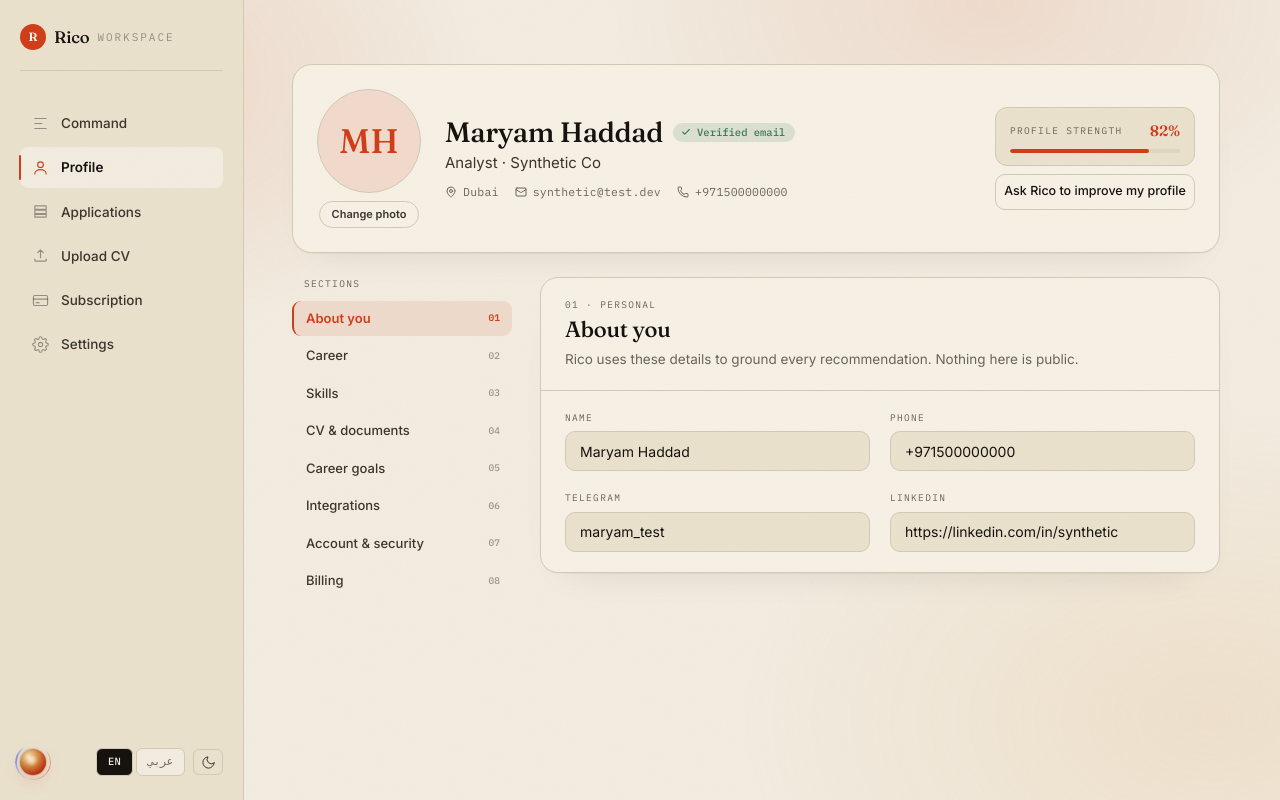
Test case: profile editorial — dirty draft save flow › edits accumulate into one PATCH containing only the changed fields
Expected: the heading "Maryam Haddad" is shown, [445,116,663,148]
Clear the field labelled "Phone" at (1042,451), box [890,431,1195,471]
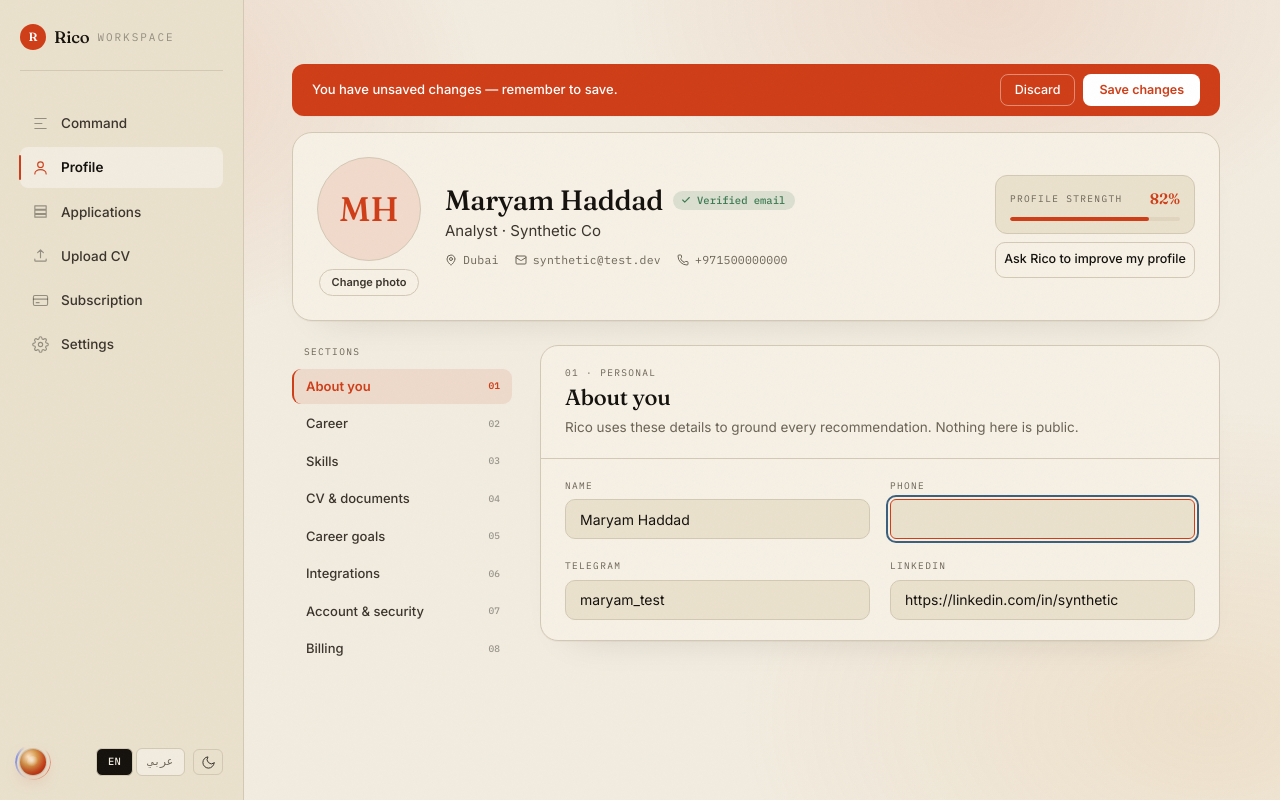
Type "+971511111111" into the field labelled "Phone" at (1042,519), box [890,499,1195,539]
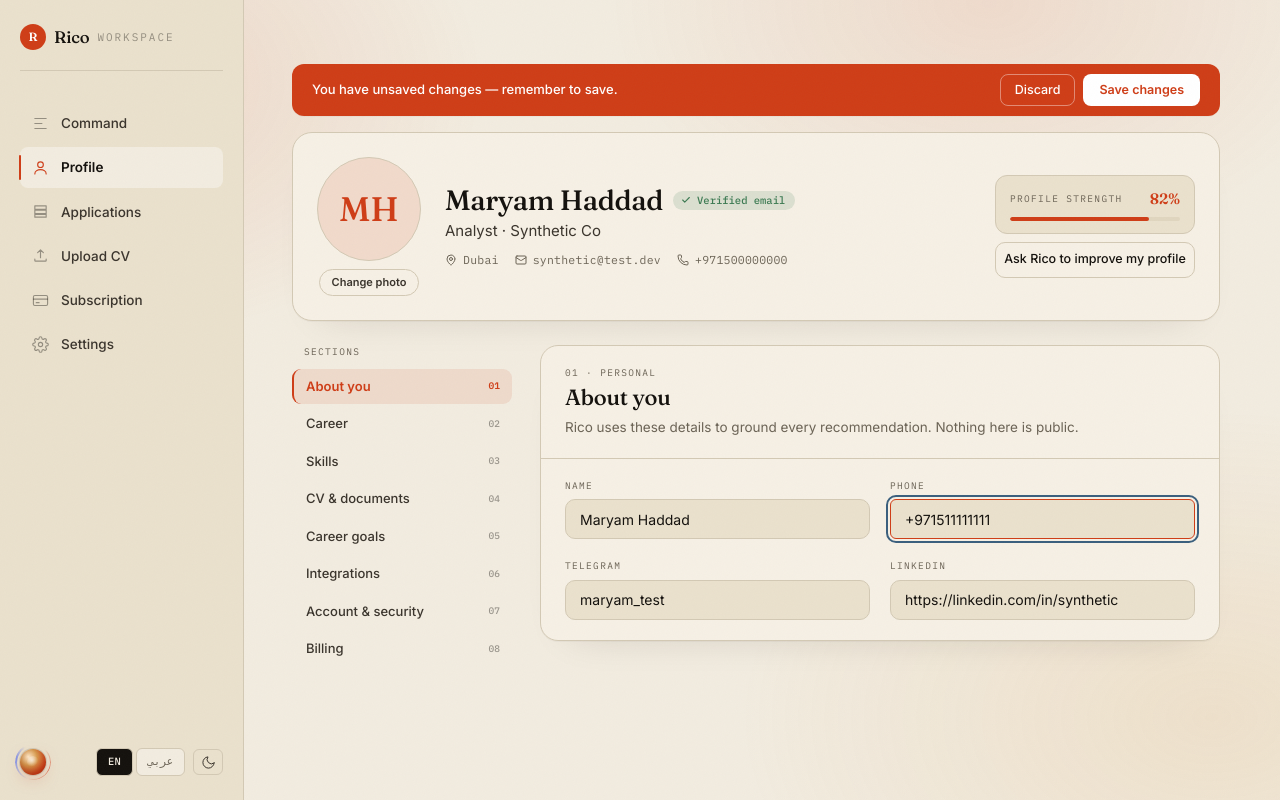
Click the button "Save changes" at (1142,90), box [1083,74,1200,106]
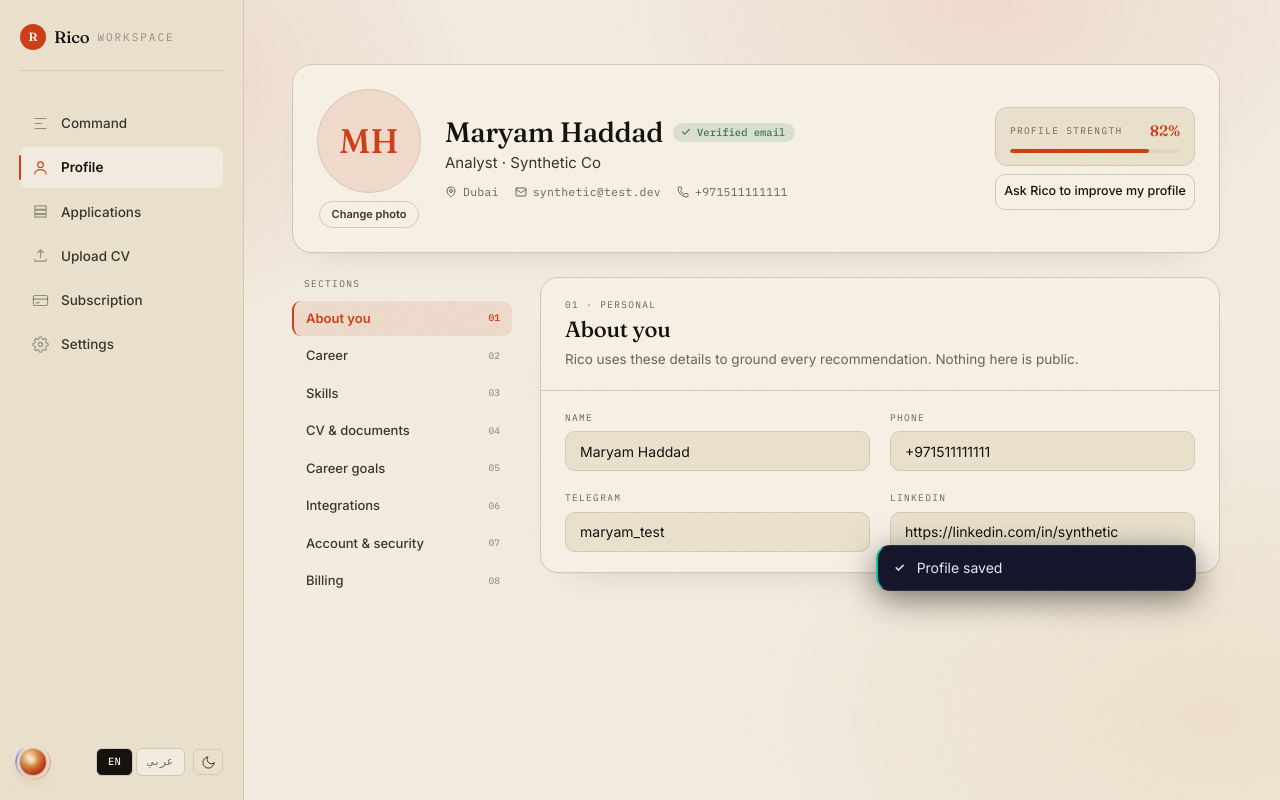
Expected: the element with test id "profile-ed-savebar" is gone
